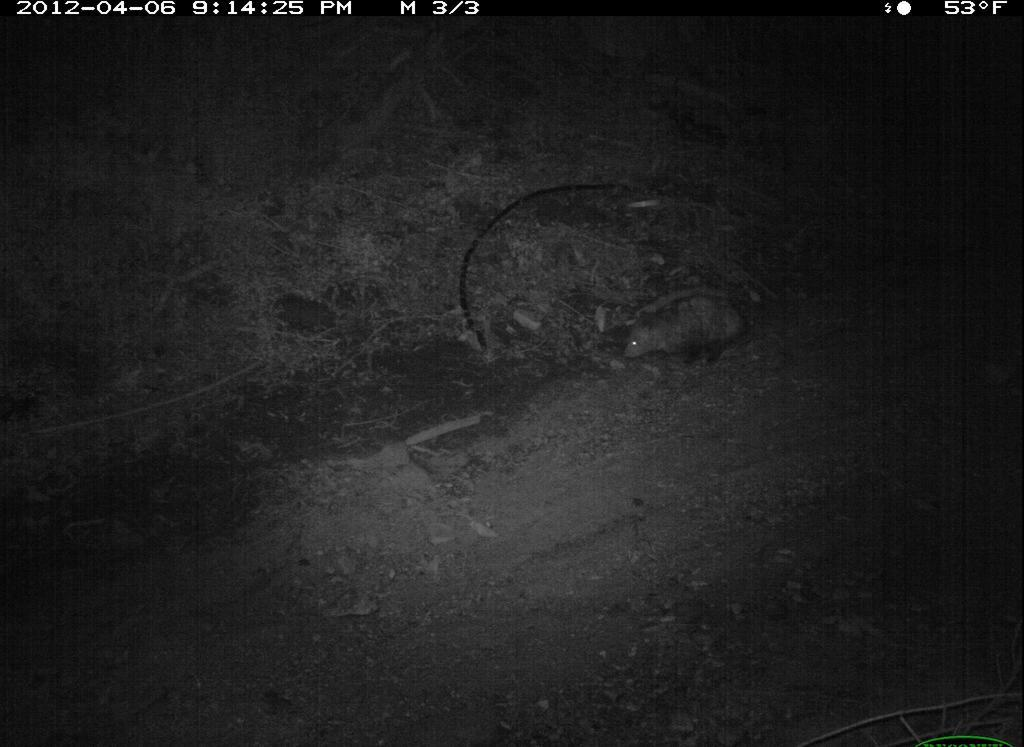opossum: (617, 291, 765, 374)
